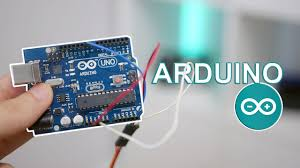arduino: (9, 29, 144, 140)
